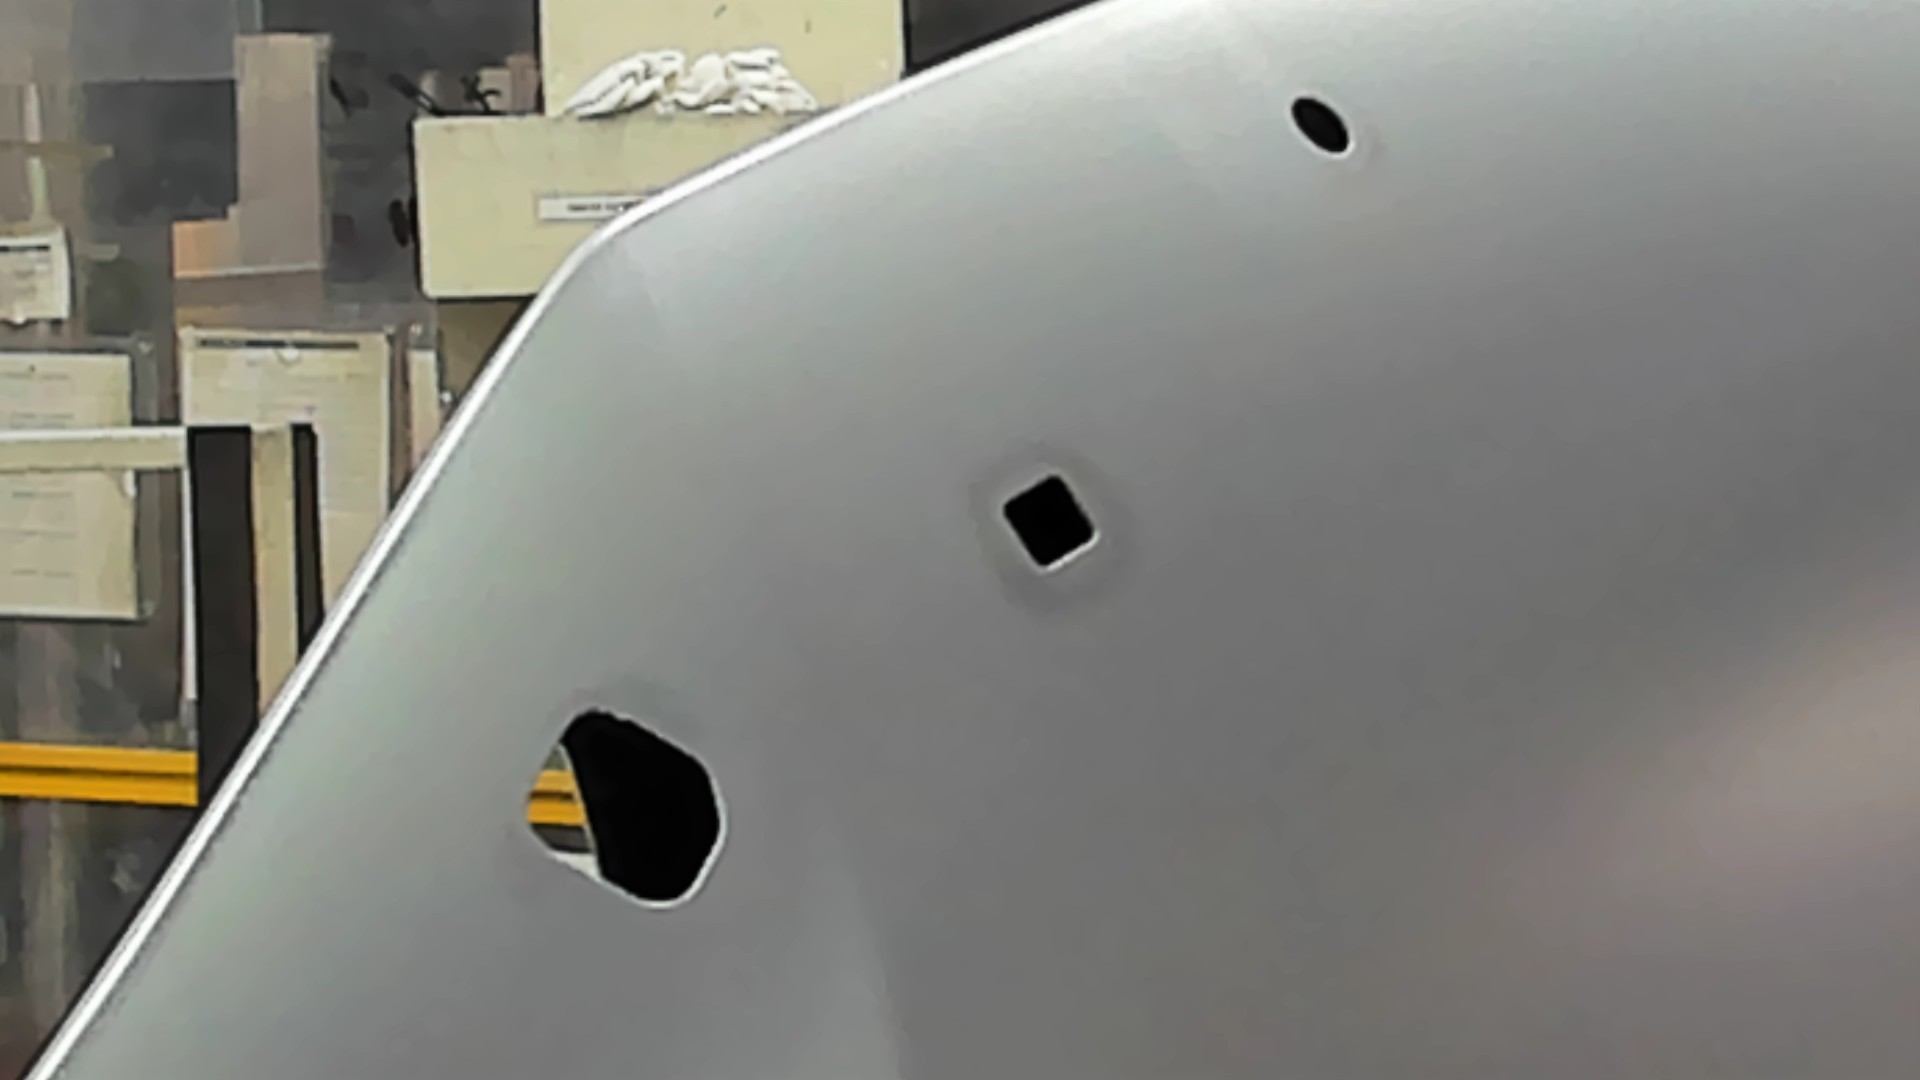capo: (1108, 165, 1920, 1080)
chico: (1286, 88, 1356, 158)
grande: (510, 698, 738, 916)
mediano: (996, 468, 1102, 579)
